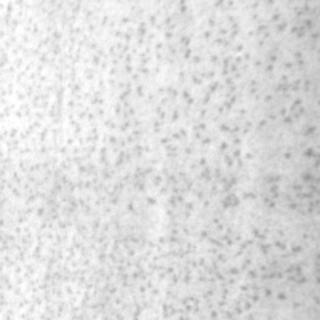pitted_surface: (0, 1, 244, 316), (215, 10, 315, 318)
